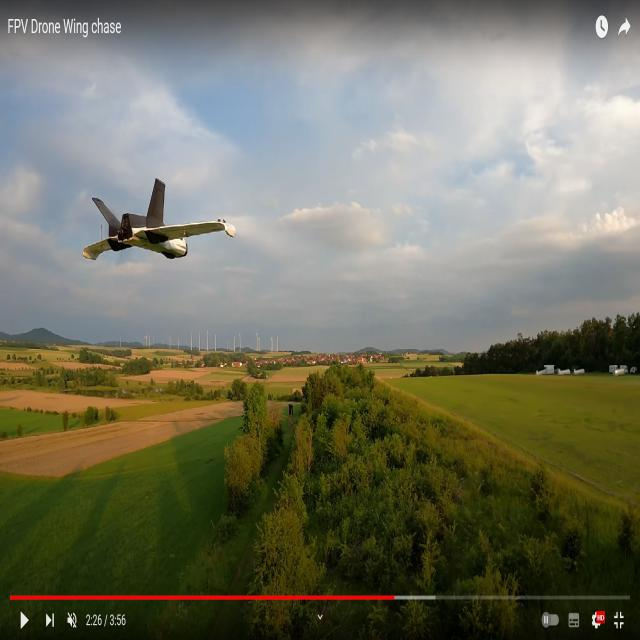iha: (83, 212, 237, 232)
